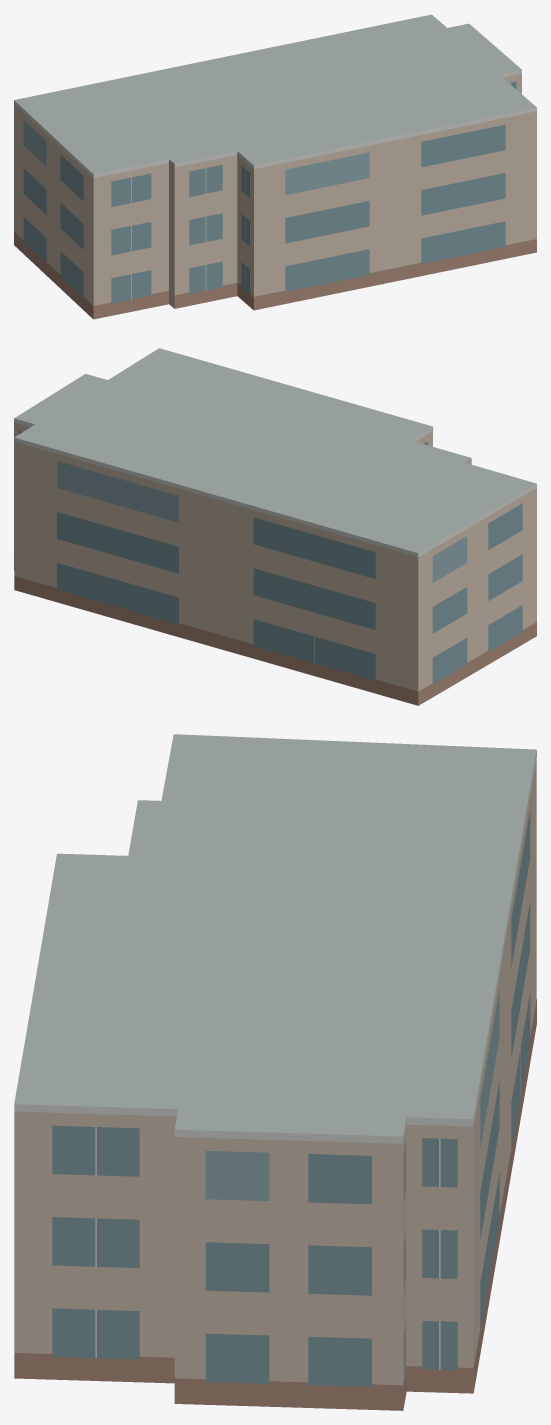
Rendered from survey-upis-32841337.glb.
3 renders of one model, top to bottom at view 1: azimuth 30°, elevation 25°; view 2: azimuth 150°, elevation 25°; view 3: azimuth 270°, elevation 25°, orthographic. The views are drawn at different scales.
Visible parts, largest first — view 1: survey-upis-32841337.tmp; view 2: survey-upis-32841337.tmp; view 3: survey-upis-32841337.tmp.
Boxes of the visible parts, box(x1,y1,x2,y2) form: survey-upis-32841337.tmp: box(14, 14, 536, 319); survey-upis-32841337.tmp: box(14, 348, 536, 705); survey-upis-32841337.tmp: box(14, 734, 536, 1410).
Bounding box in the file's own units: 28.82 × 9.15 × 15.82.
